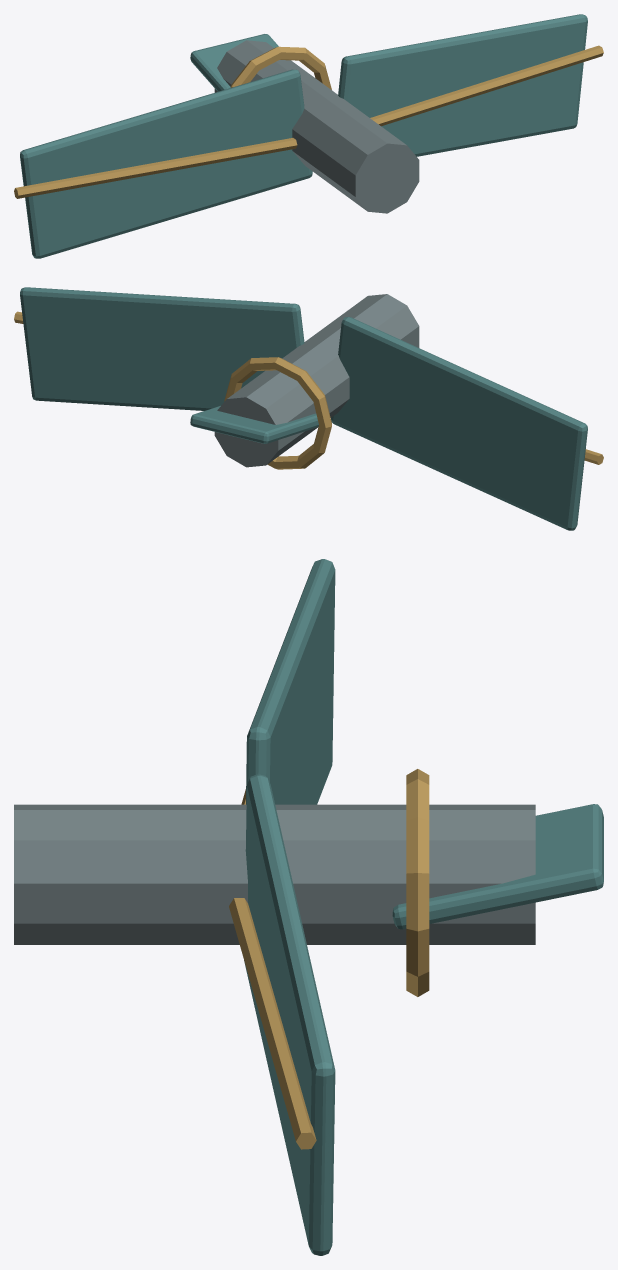
The model's file is unit-flyer.glb.
3 renders of one model, top to bottom at view 1: azimuth 30°, elevation 25°; view 2: azimuth 150°, elevation 25°; view 3: azimuth 270°, elevation 25°, orthographic. The views are drawn at different scales.
Parts seen in each view (by area): view 1: left articulated wing, right articulated wing, bird body, wing spar, wing spar.001, rotor cage, split tail; view 2: left articulated wing, right articulated wing, bird body, rotor cage, split tail; view 3: bird body, right articulated wing, left articulated wing, split tail, rotor cage, wing spar.001.
Boxes of the visible parts, x1,y1,x2,y2 form: left articulated wing: (20, 69, 312, 258); right articulated wing: (338, 14, 587, 156); bird body: (214, 40, 419, 213); wing spar: (14, 138, 297, 198); wing spar.001: (370, 45, 603, 126); rotor cage: (230, 46, 331, 89); split tail: (190, 34, 278, 91); left articulated wing: (331, 317, 587, 530); right articulated wing: (20, 287, 304, 410); bird body: (214, 294, 419, 467); rotor cage: (224, 357, 331, 469); split tail: (190, 405, 318, 443); bird body: (14, 804, 535, 944); right articulated wing: (244, 774, 335, 1255); left articulated wing: (246, 559, 335, 804); split tail: (392, 804, 603, 929); rotor cage: (406, 769, 429, 996); wing spar.001: (229, 898, 316, 1149).
Size of the model in its own units: 4.19 by 0.9736 by 1.98.
